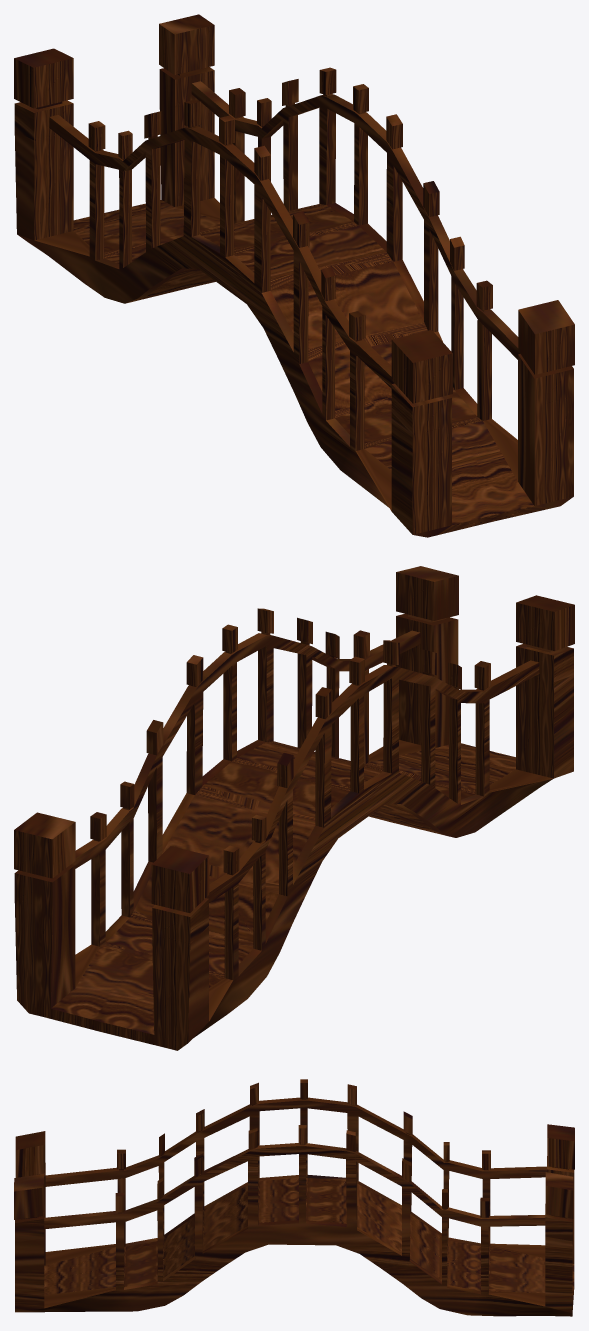
The model's file is bridge.fbx.
The picture shows the model from 3 angles, top to bottom: view 1: azimuth 30°, elevation 25°; view 2: azimuth 150°, elevation 25°; view 3: azimuth 270°, elevation 25°; orthographic projection. The views are drawn at different scales.
Visible parts, largest first — view 1: pCube1; view 2: pCube1; view 3: pCube1.
Part boxes in pixels (x1,y1,x2,y2): pCube1: (14, 14, 574, 537); pCube1: (14, 566, 574, 1050); pCube1: (14, 1079, 574, 1316).
Size of the model in its own units: 8.17 by 11.36 by 30.79.
1 material, 1 textured.
